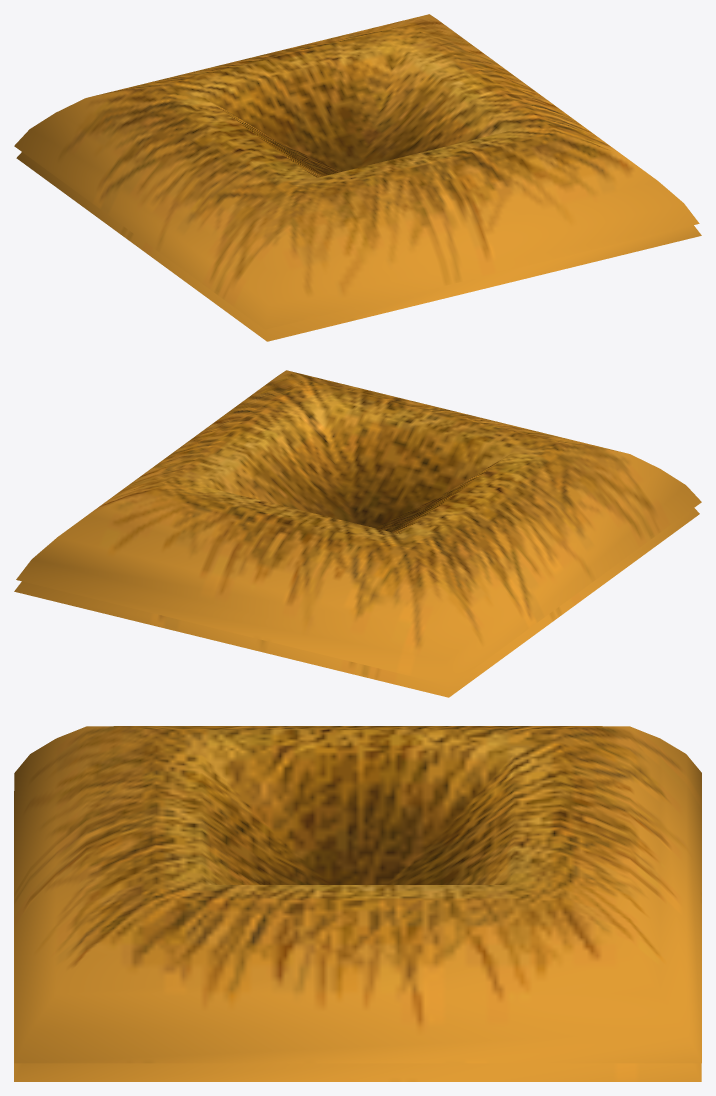
Rendered from INST_HTOWN_CHICKENNEST.fbx.
3 renders of one model, top to bottom at view 1: azimuth 30°, elevation 25°; view 2: azimuth 150°, elevation 25°; view 3: azimuth 270°, elevation 25°, orthographic. The views are drawn at different scales.
Visible parts, largest first — view 1: INST_HTOWN_CHICKENNEST; view 2: INST_HTOWN_CHICKENNEST; view 3: INST_HTOWN_CHICKENNEST.
Boxes of the visible parts, x1,y1,x2,y2 form: INST_HTOWN_CHICKENNEST: (14, 14, 701, 341); INST_HTOWN_CHICKENNEST: (14, 370, 701, 697); INST_HTOWN_CHICKENNEST: (14, 726, 701, 1081).
Bounding box in the file's own units: 8674 × 1883 × 8639.
2 materials, 2 textured.
